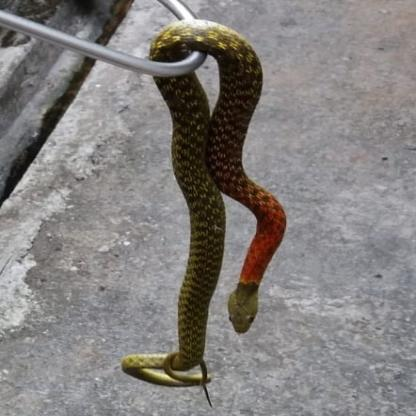Snake: (123, 21, 285, 391)
